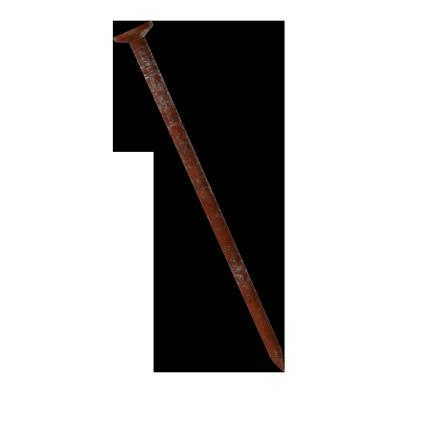karat: (114, 22, 284, 371)
